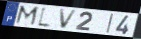2: (75, 11, 95, 32)
4: (115, 14, 131, 36)
I: (106, 13, 115, 34)
L: (35, 6, 53, 30)
M: (14, 4, 40, 27)
V: (59, 9, 79, 30)
